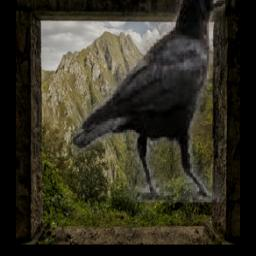Crow: (71, 0, 224, 202)
